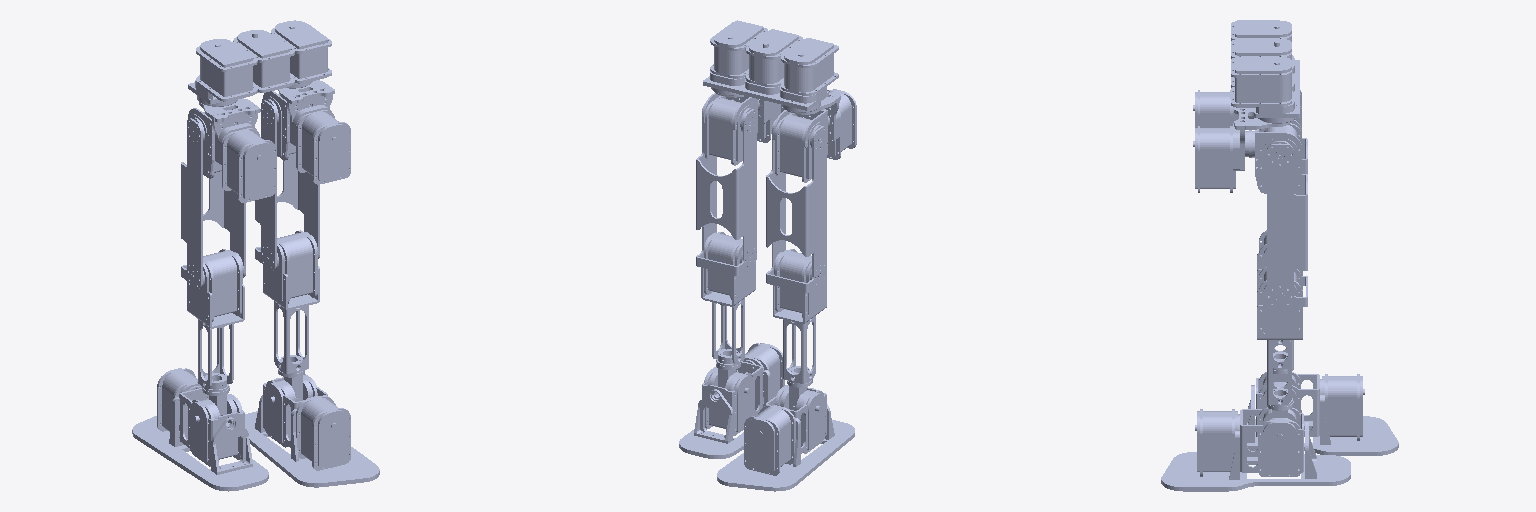
URDF robot description (UXALeg):
<?xml version="1.0"?>
<robot
  name="UXALeg">
  <link
    name="base_link_112210">
    <inertial>
      <origin
        xyz="-0.0069197 -0.31939 0.0072054"
        rpy="0 0 0" />
      <mass
        value="6.3684" />
      <inertia
        ixx="0.31591"
        ixy="0.0027254"
        ixz="-0.00057554"
        iyy="0.046817"
        iyz="-0.053132"
        izz="0.31763" />
    </inertial>
    <visual>
      <origin
        xyz="0 0 0"
        rpy="0 0 0" />
      <geometry>
        <mesh
          filename="package://UXALeg/meshes/base_link_112210.STL" />
      </geometry>
      <material
        name="">
        <color
          rgba="0.79216 0.81961 0.93333 1" />
      </material>
    </visual>
    <collision>
      <origin
        xyz="0 0 0"
        rpy="0 0 0" />
      <geometry>
        <mesh
          filename="package://UXALeg/meshes/base_link_112210.STL" />
      </geometry>
    </collision>
  </link>
  <link
    name="Link911">
    <inertial>
      <origin
        xyz="-0.25939 0.06392 0.0068654"
        rpy="0 0 0" />
      <mass
        value="6.3684" />
      <inertia
        ixx="0.046817"
        ixy="-0.0027254"
        ixz="-0.053132"
        iyy="0.31591"
        iyz="0.00057554"
        izz="0.31763" />
    </inertial>
    <visual>
      <origin
        xyz="0 0 0"
        rpy="0 0 0" />
      <geometry>
        <mesh
          filename="package://UXALeg/meshes/Link911.STL" />
      </geometry>
      <material
        name="">
        <color
          rgba="0.79216 0.81961 0.93333 1" />
      </material>
    </visual>
    <collision>
      <origin
        xyz="0 0 0"
        rpy="0 0 0" />
      <geometry>
        <mesh
          filename="package://UXALeg/meshes/Link911.STL" />
      </geometry>
    </collision>
  </link>
  <joint
    name="Joint11"
    type="revolute">
    <origin
      xyz="0.057 -0.00034 -0.06"
      rpy="1.5708 -1.5708 0" />
    <parent
      link="base_link_112210" />
    <child
      link="Link911" />
    <axis
      xyz="1 0 0" />
    <limit    upper="0.5" lower="-.5"   effort="2"  velocity="2" />
  </joint>
  <link
    name="Link79">
    <inertial>
      <origin
        xyz="-0.06382 -0.1955 0.0068654"
        rpy="0 0 0" />
      <mass
        value="6.3684" />
      <inertia
        ixx="0.31591"
        ixy="0.0027254"
        ixz="-0.00057554"
        iyy="0.046817"
        iyz="-0.053132"
        izz="0.31763" />
    </inertial>
    <visual>
      <origin
        xyz="0 0 0"
        rpy="0 0 0" />
      <geometry>
        <mesh
          filename="package://UXALeg/meshes/Link79.STL" />
      </geometry>
      <material
        name="">
        <color
          rgba="0.79216 0.81961 0.93333 1" />
      </material>
    </visual>
    <collision>
      <origin
        xyz="0 0 0"
        rpy="0 0 0" />
      <geometry>
        <mesh
          filename="package://UXALeg/meshes/Link79.STL" />
      </geometry>
    </collision>
  </link>
  <joint
    name="Joint9"
    type="revolute">
    <origin
      xyz="-0.063895 9.9846E-05 0"
      rpy="0 0 -1.5708" />
    <parent
      link="Link911" />
    <child
      link="Link79" />
    <axis
      xyz="0 0 1" />
    <limit    upper="0.5" lower="-.5"   effort="2"  velocity="2" />
  </joint>
  <link
    name="Link57">
    <inertial>
      <origin
        xyz="-0.06382 0.0068654 0.1955"
        rpy="0 0 0" />
      <mass
        value="6.3684" />
      <inertia
        ixx="0.31591"
        ixy="-0.00057554"
        ixz="-0.0027254"
        iyy="0.31763"
        iyz="0.053132"
        izz="0.046817" />
    </inertial>
    <visual>
      <origin
        xyz="0 0 0"
        rpy="0 0 0" />
      <geometry>
        <mesh
          filename="package://UXALeg/meshes/Link57.STL" />
      </geometry>
      <material
        name="">
        <color
          rgba="0.79216 0.81961 0.93333 1" />
      </material>
    </visual>
    <collision>
      <origin
        xyz="0 0 0"
        rpy="0 0 0" />
      <geometry>
        <mesh
          filename="package://UXALeg/meshes/Link57.STL" />
      </geometry>
    </collision>
  </link>
  <joint
    name="Joint7"
    type="revolute">
    <origin
      xyz="0 0 0"
      rpy="1.5708 0 0" />
    <parent
      link="Link79" />
    <child
      link="Link57" />
    <axis
      xyz="1 0 0" />
    <limit    upper="0.5" lower="-.5"   effort="2"  velocity="2" />
  </joint>
  <link
    name="Link35">
    <inertial>
      <origin
        xyz="0.0145026308675864 0.0638198916139283 0.0111653933556092"
        rpy="0 0 0" />
      <mass
        value="6.36839592430363" />
      <inertia
        ixx="0.0468174334082147"
        ixy="-0.00272542117602281"
        ixz="-0.053132361242491"
        iyy="0.315913715519812"
        iyz="0.000575539891669917"
        izz="0.317627543393465" />
    </inertial>
    <visual>
      <origin
        xyz="0 0 0"
        rpy="0 0 0" />
      <geometry>
        <mesh
          filename="package://UXALeg/meshes/Link35.STL" />
      </geometry>
      <material
        name="">
        <color
          rgba="0.792156862745098 0.819607843137255 0.933333333333333 1" />
      </material>
    </visual>
    <collision>
      <origin
        xyz="0 0 0"
        rpy="0 0 0" />
      <geometry>
        <mesh
          filename="package://UXALeg/meshes/Link35.STL" />
      </geometry>
    </collision>
  </link>
  <joint
    name="Joint5"
    type="revolute">
    <origin
      xyz="0 -0.0043 0.21"
      rpy="1.5708 1.5708 0" />
    <parent
      link="Link57" />
    <child
      link="Link35" />
    <axis
      xyz="0 -1 0" />
    <limit    upper="0.5" lower="-.5"   effort="2"  velocity="2" />
  </joint>
  <link
    name="Link13">
    <inertial>
      <origin
        xyz="0.222502630867693 -0.063819891613928 -0.0116638313797228"
        rpy="0 0 0" />
      <mass
        value="6.36839592430363" />
      <inertia
        ixx="0.0468174334082147"
        ixy="0.00272542117602281"
        ixz="0.053132361242491"
        iyy="0.315913715519812"
        iyz="0.000575539891669917"
        izz="0.317627543393465" />
    </inertial>
    <visual>
      <origin
        xyz="0 0 0"
        rpy="0 0 0" />
      <geometry>
        <mesh
          filename="package://UXALeg/meshes/Link13.STL" />
      </geometry>
      <material
        name="">
        <color
          rgba="0.792156862745098 0.819607843137255 0.933333333333333 1" />
      </material>
    </visual>
    <collision>
      <origin
        xyz="0 0 0"
        rpy="0 0 0" />
      <geometry>
        <mesh
          filename="package://UXALeg/meshes/Link13.STL" />
      </geometry>
    </collision>
  </link>
  <joint
    name="Joint3"
    type="revolute">
    <origin
      xyz="-0.208 0 -0.00049844"
      rpy="3.1416 1.2037E-31 -1.044E-47" />
    <parent
      link="Link35" />
    <child
      link="Link13" />
    <axis
      xyz="0 1 0" />
<limit    upper="0.5" lower="-.5"   effort="2"  velocity="2" />
  </joint>
  <link
    name="Link1">
    <inertial>
      <origin
        xyz="-0.063819891613928 0.222502630867693 0.0116638313797228"
        rpy="0 0 0" />
      <mass
        value="6.36839592430363" />
      <inertia
        ixx="0.315913715519812"
        ixy="0.00272542117602281"
        ixz="-0.000575539891669917"
        iyy="0.0468174334082147"
        iyz="-0.053132361242491"
        izz="0.317627543393465" />
    </inertial>
    <visual>
      <origin
        xyz="0 0 0"
        rpy="0 0 0" />
      <geometry>
        <mesh
          filename="package://UXALeg/meshes/Link1.STL" />
      </geometry>
      <material
        name="">
        <color
          rgba="0.792156862745098 0.819607843137255 0.933333333333333 1" />
      </material>
    </visual>
    <collision>
      <origin
        xyz="0 0 0"
        rpy="0 0 0" />
      <geometry>
        <mesh
          filename="package://UXALeg/meshes/Link1.STL" />
      </geometry>
    </collision>
  </link>
  <joint
    name="Joint1"
    type="revolute">
    <origin
      xyz="0 0 0"
      rpy="-3.1416 -8.6736E-17 1.5708" />
    <parent
      link="Link13" />
    <child
      link="Link1" />
    <axis
      xyz="0 0 1" />
    <limit    upper="0.5" lower="-.5"   effort="2"  velocity="2" />
  </joint>
  <link
    name="Link810">
    <inertial>
      <origin
        xyz="-0.25939 -0.05008 0.0068654"
        rpy="0 0 0" />
      <mass
        value="6.3684" />
      <inertia
        ixx="0.046817"
        ixy="-0.0027254"
        ixz="-0.053132"
        iyy="0.31591"
        iyz="0.00057554"
        izz="0.31763" />
    </inertial>
    <visual>
      <origin
        xyz="0 0 0"
        rpy="0 0 0" />
      <geometry>
        <mesh
          filename="package://UXALeg/meshes/Link810.STL" />
      </geometry>
      <material
        name="">
        <color
          rgba="0.79216 0.81961 0.93333 1" />
      </material>
    </visual>
    <collision>
      <origin
        xyz="0 0 0"
        rpy="0 0 0" />
      <geometry>
        <mesh
          filename="package://UXALeg/meshes/Link810.STL" />
      </geometry>
    </collision>
  </link>
  <joint
    name="Joint10"
    type="revolute">
    <origin
      xyz="-0.057 -0.00034 -0.06"
      rpy="1.5708 -1.5708 0" />
    <parent
      link="base_link_112210" />
    <child
      link="Link810" />
    <axis
      xyz="1 0 0" />
    <limit    upper="0.5" lower="-.5"   effort="2"  velocity="2" />
  </joint>
  <link
    name="Link68">
    <inertial>
      <origin
        xyz="0.05018 -0.1955 0.0068654"
        rpy="0 0 0" />
      <mass
        value="6.3684" />
      <inertia
        ixx="0.31591"
        ixy="0.0027254"
        ixz="-0.00057554"
        iyy="0.046817"
        iyz="-0.053132"
        izz="0.31763" />
    </inertial>
    <visual>
      <origin
        xyz="0 0 0"
        rpy="0 0 0" />
      <geometry>
        <mesh
          filename="package://UXALeg/meshes/Link68.STL" />
      </geometry>
      <material
        name="">
        <color
          rgba="0.79216 0.81961 0.93333 1" />
      </material>
    </visual>
    <collision>
      <origin
        xyz="0 0 0"
        rpy="0 0 0" />
      <geometry>
        <mesh
          filename="package://UXALeg/meshes/Link68.STL" />
      </geometry>
    </collision>
  </link>
  <joint
    name="Joint8"
    type="revolute">
    <origin
      xyz="-0.063895 9.9846E-05 0"
      rpy="0 0 -1.5708" />
    <parent
      link="Link810" />
    <child
      link="Link68" />
    <axis
      xyz="0 0 1" />
    <limit    upper="0.5" lower="-.5"   effort="2"  velocity="2" />
  </joint>
  <link
    name="Link46">
    <inertial>
      <origin
        xyz="0.05018 0.0068654 0.1955"
        rpy="0 0 0" />
      <mass
        value="6.3684" />
      <inertia
        ixx="0.31591"
        ixy="-0.00057554"
        ixz="-0.0027254"
        iyy="0.31763"
        iyz="0.053132"
        izz="0.046817" />
    </inertial>
    <visual>
      <origin
        xyz="0 0 0"
        rpy="0 0 0" />
      <geometry>
        <mesh
          filename="package://UXALeg/meshes/Link46.STL" />
      </geometry>
      <material
        name="">
        <color
          rgba="0.79216 0.81961 0.93333 1" />
      </material>
    </visual>
    <collision>
      <origin
        xyz="0 0 0"
        rpy="0 0 0" />
      <geometry>
        <mesh
          filename="package://UXALeg/meshes/Link46.STL" />
      </geometry>
    </collision>
  </link>
  <joint
    name="Joint6"
    type="revolute">
    <origin
      xyz="0 0 0"
      rpy="1.5708 0 0" />
    <parent
      link="Link68" />
    <child
      link="Link46" />
    <axis
      xyz="1 0 0" />
    <limit    upper="0.5" lower="-.5"   effort="2"  velocity="2" />
  </joint>
  <link
    name="Link24">
    <inertial>
      <origin
        xyz="0.05018 0.014503 0.011165"
        rpy="0 0 0" />
      <mass
        value="6.3684" />
      <inertia
        ixx="0.31591"
        ixy="0.0027254"
        ixz="-0.00057554"
        iyy="0.046817"
        iyz="-0.053132"
        izz="0.31763" />
    </inertial>
    <visual>
      <origin
        xyz="0 0 0"
        rpy="0 0 0" />
      <geometry>
        <mesh
          filename="package://UXALeg/meshes/Link24.STL" />
      </geometry>
      <material
        name="">
        <color
          rgba="0.79216 0.81961 0.93333 1" />
      </material>
    </visual>
    <collision>
      <origin
        xyz="0 0 0"
        rpy="0 0 0" />
      <geometry>
        <mesh
          filename="package://UXALeg/meshes/Link24.STL" />
      </geometry>
    </collision>
  </link>
  <joint
    name="Joint4"
    type="revolute">
    <origin
      xyz="0 -0.0043 0.21"
      rpy="-1.5708 0 0" />
    <parent
      link="Link46" />
    <child
      link="Link24" />
    <axis
      xyz="1 0 0" />
   <limit    upper="0.5" lower="-.5"   effort="2"  velocity="2" />
  </joint>
  <link
    name="Link02">
    <inertial>
      <origin
        xyz="0.2235 0.05018 -0.010667"
        rpy="0 0 0" />
      <mass
        value="6.3684" />
      <inertia
        ixx="0.046817"
        ixy="0.0027254"
        ixz="0.053132"
        iyy="0.31591"
        iyz="0.00057554"
        izz="0.31763" />
    </inertial>
    <visual>
      <origin
        xyz="0 0 0"
        rpy="0 0 0" />
      <geometry>
        <mesh
          filename="package://UXALeg/meshes/Link02.STL" />
      </geometry>
      <material
        name="">
        <color
          rgba="0.79216 0.81961 0.93333 1" />
      </material>
    </visual>
    <collision>
      <origin
        xyz="0 0 0"
        rpy="0 0 0" />
      <geometry>
        <mesh
          filename="package://UXALeg/meshes/Link02.STL" />
      </geometry>
    </collision>
  </link>
  <joint
    name="Joint2"
    type="revolute">
    <origin
      xyz="0 -0.209 0.00049844"
      rpy="-3.1416 -1.95E-29 1.5708" />
    <parent
      link="Link24" />
    <child
      link="Link02" />
    <axis
      xyz="0 1 0" />
    <limit    upper="0.5" lower="-.5"   effort="2"  velocity="2" />
  </joint>
  <link
    name="Link0">
    <inertial>
      <origin
        xyz="-0.05018 -0.2235 0.010667"
        rpy="0 0 0" />
      <mass
        value="6.3684" />
      <inertia
        ixx="0.31591"
        ixy="0.0027254"
        ixz="0.00057554"
        iyy="0.046817"
        iyz="0.053132"
        izz="0.31763" />
    </inertial>
    <visual>
      <origin
        xyz="0 0 0"
        rpy="0 0 0" />
      <geometry>
        <mesh
          filename="package://UXALeg/meshes/Link0.STL" />
      </geometry>
      <material
        name="">
        <color
          rgba="0.79216 0.81961 0.93333 1" />
      </material>
    </visual>
    <collision>
      <origin
        xyz="0 0 0"
        rpy="0 0 0" />
      <geometry>
        <mesh
          filename="package://UXALeg/meshes/Link0.STL" />
      </geometry>
    </collision>
  </link>
  <joint
    name="Joint0"
    type="revolute">
    <origin
      xyz="0 0 0"
      rpy="3.14159265358979 -2.81025203108243E-14 -1.5707963267949" />
    <parent
      link="Link02" />
    <child
      link="Link0" />
    <axis
      xyz="0 0 1" />
<limit    upper="0.5" lower="-.5"   effort="2"  velocity="2" />
  </joint>
</robot>

--- Facts derived from the render (not from the file) ---
3 views of the same robot in one strip: view 1: azimuth 30°, elevation 25°; view 2: azimuth 150°, elevation 25°; view 3: azimuth 270°, elevation 25° (orthographic).
Model UXALeg with 13 links and 12 joints (12 revolute), rooted at base_link_112210, posed every joint at zero.
Links seen in each view (by area): view 1: base_link_112210, Link1, Link0, Link24, Link35, Link46, Link810, Link911, Link57, Link02, Link13, Link79 (+1 smaller); view 2: base_link_112210, Link0, Link46, Link57, Link35, Link24, Link1, Link13, Link79, Link68, Link02, Link810 (+1 smaller); view 3: Link1, base_link_112210, Link57, Link0, Link13, Link911, Link35, Link79, Link02, Link810, Link24.
Link boxes in pixels (x1,y1,x2,y2): base_link_112210: (188,20,331,106); Link1: (245,378,379,487); Link0: (132,368,268,491); Link24: (187,249,244,415); Link35: (263,230,319,401); Link46: (181,117,245,288); Link810: (199,98,276,202); Link911: (278,80,350,184); Link57: (255,99,319,270); Link02: (180,386,244,466); Link13: (263,374,327,447); Link79: (262,91,295,160); base_link_112210: (703,20,838,112); Link0: (717,388,854,491); Link46: (766,120,826,292); Link57: (696,104,756,275); Link35: (701,232,755,387); Link24: (773,249,826,410); Link1: (679,343,784,458); Link13: (702,360,762,435); Link79: (702,93,759,165); Link68: (773,109,830,182); Link02: (766,385,826,453); Link810: (785,89,856,159); Link1: (1161,409,1350,491); base_link_112210: (1231,20,1299,123); Link57: (1267,141,1307,307); Link0: (1247,374,1398,455); Link13: (1238,407,1303,476); Link911: (1193,107,1290,192); Link35: (1257,267,1302,417); Link79: (1245,120,1301,193); Link02: (1256,372,1321,436); Link810: (1193,90,1238,127); Link24: (1257,230,1302,382).
Bounding box of the posed robot: 0.2274 × 0.3181 × 0.6113 m (x, y, z).
13 mesh visuals loaded from 13 distinct referenced files (13 binary STL).